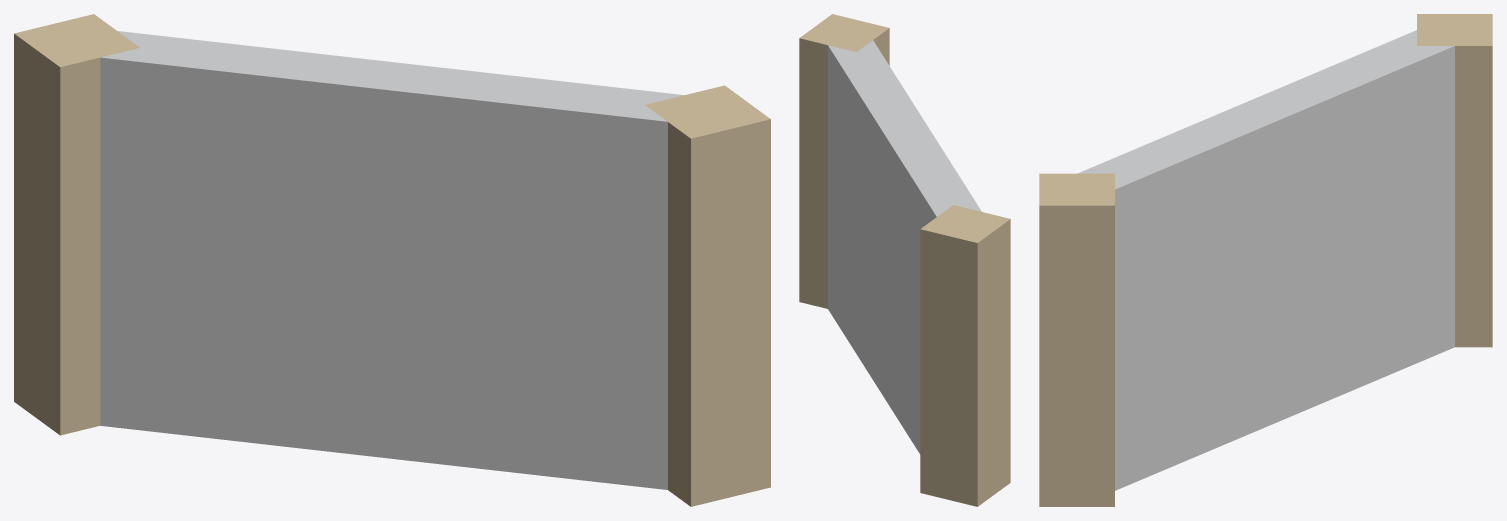
The model's file is Wood_Corner_01.glb.
3 renders of one model, left to right at view 1: azimuth 30°, elevation 25°; view 2: azimuth 150°, elevation 25°; view 3: azimuth 270°, elevation 25°, orthographic. The views are drawn at different scales.
Visible parts, largest first — view 1: Mesh1 Wood_Corner Model; view 2: Mesh1 Wood_Corner Model; view 3: Mesh1 Wood_Corner Model.
Boxes of the visible parts, x1,y1,x2,y2 form: Mesh1 Wood_Corner Model: (14, 14, 770, 506); Mesh1 Wood_Corner Model: (799, 14, 1010, 506); Mesh1 Wood_Corner Model: (1039, 14, 1492, 506).
Size of the model in its own units: 3 by 2.2 by 3.
